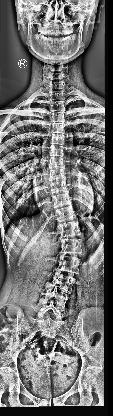Vertebrae: (50, 273, 76, 291), (38, 304, 64, 320), (57, 256, 81, 272), (44, 288, 68, 304), (60, 238, 82, 254), (58, 223, 80, 237), (56, 207, 76, 220), (50, 182, 68, 194), (52, 196, 70, 206), (51, 122, 65, 134), (51, 90, 65, 100), (51, 112, 65, 122), (51, 135, 65, 145), (50, 146, 64, 156), (50, 158, 64, 168), (50, 170, 64, 180), (50, 102, 66, 110)
